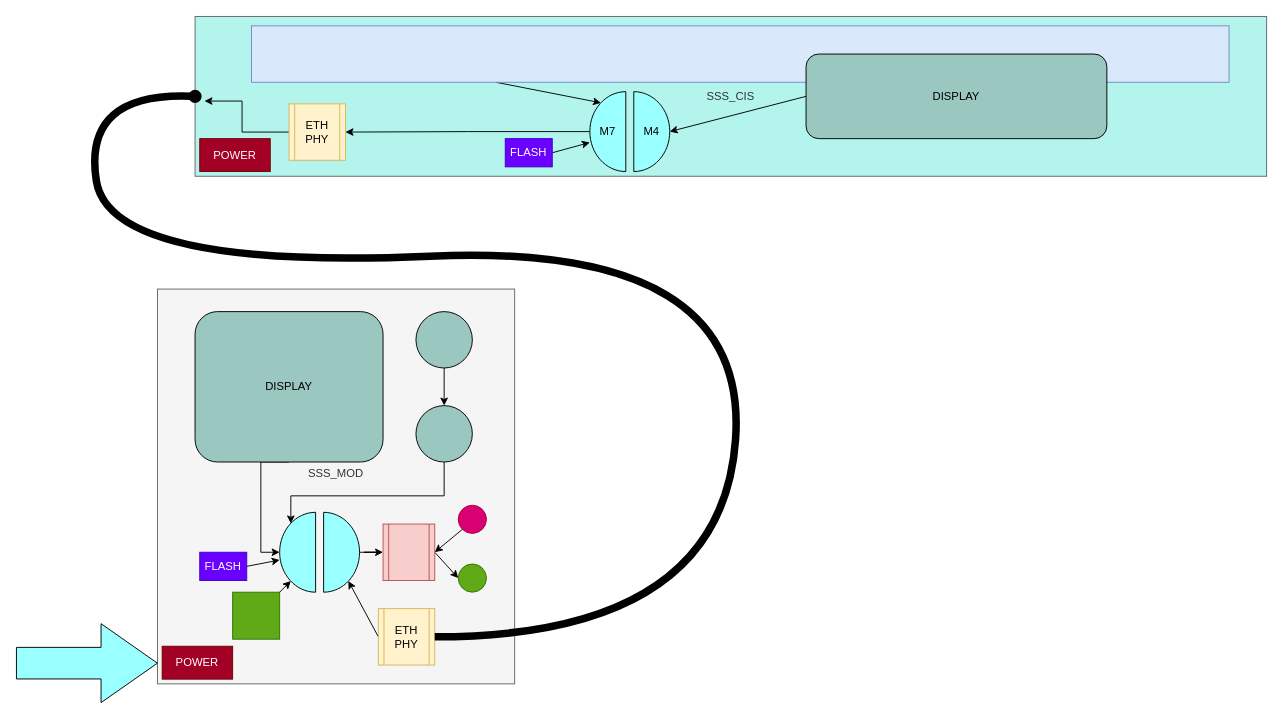
Some shapes in this 1283 by 719 pixel diagram are drawn without their labels. The shapes that lost their labels are listed below. From the top down, each one's centre as x and y in pixels, then its label:
At (740,53): "CIS".
At (319,551): "M4 M7".
At (408,551): "CODEC AUDIO".
At (256,615): "RAM".
At (86,663): "EURORACK CABLE".
